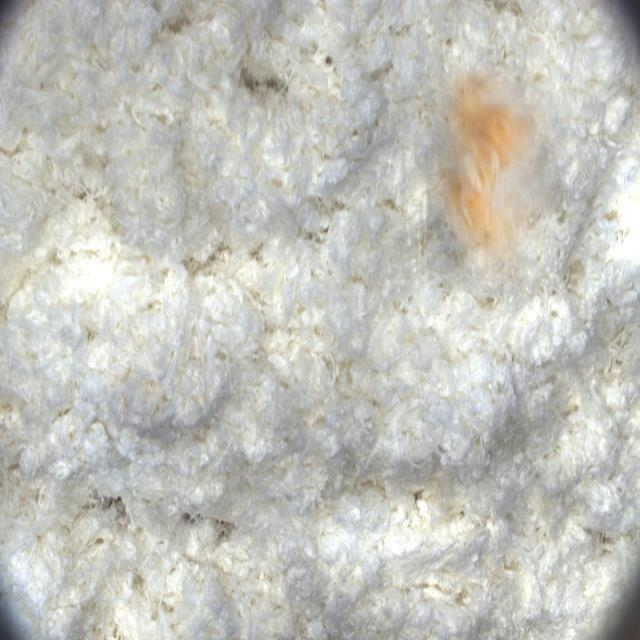dust: (427, 64, 555, 293)
